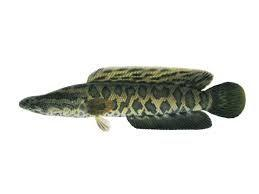Snakehead: (18, 57, 259, 132)
